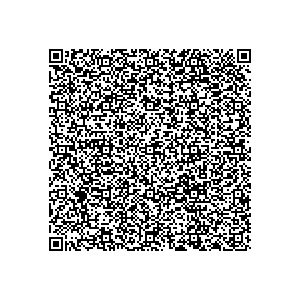QR_CODE: (35, 34, 256, 265)
